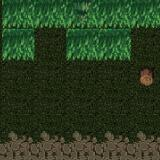Obstacle: (129, 60, 160, 93)
Slow: (3, 0, 160, 28), (66, 29, 130, 60), (2, 28, 34, 62)
